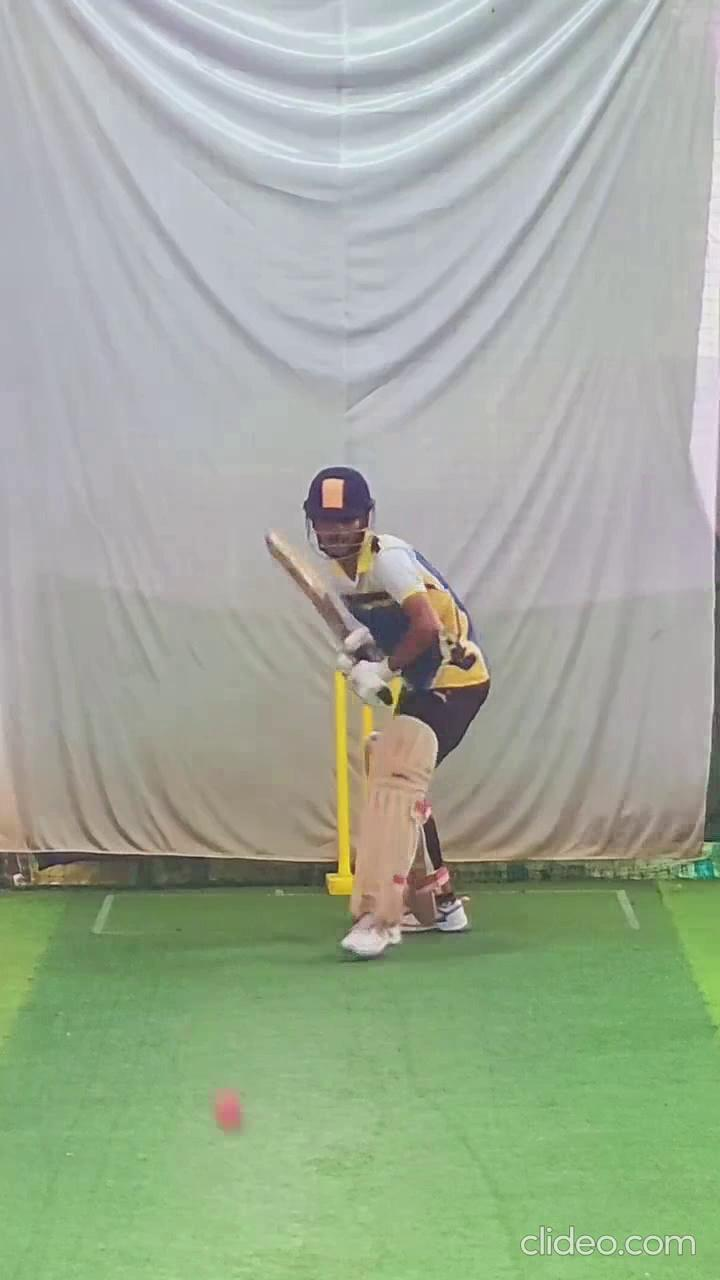bat: (255, 518, 358, 649)
